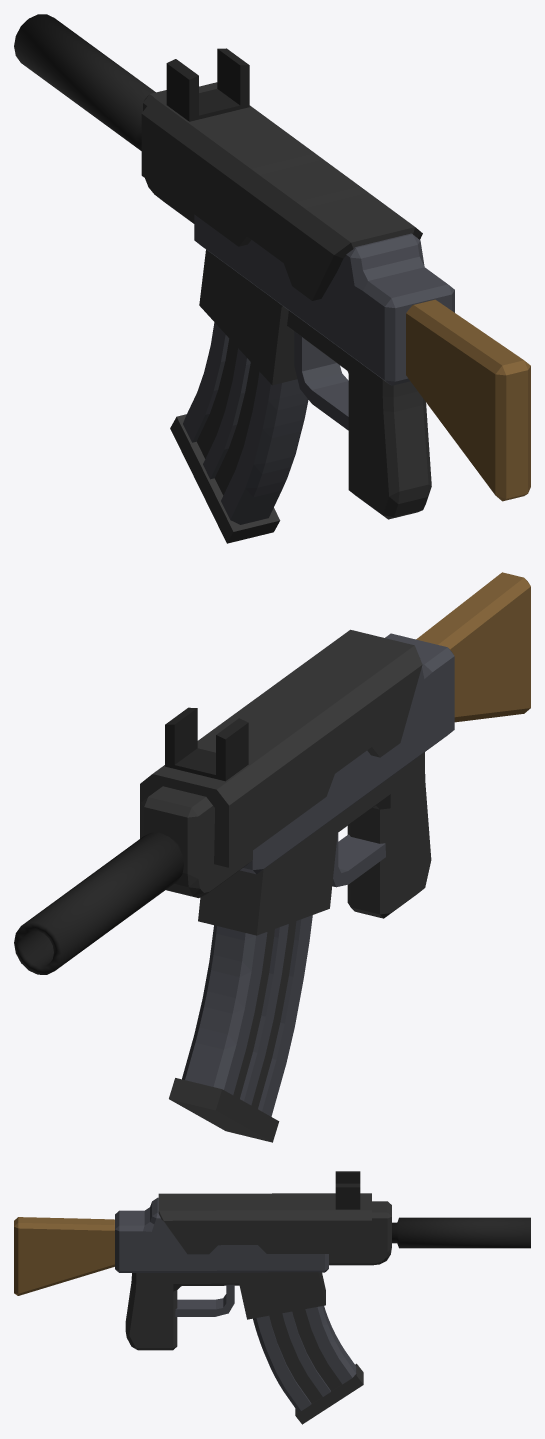
3 renders of one model, top to bottom at view 1: azimuth 30°, elevation 25°; view 2: azimuth 150°, elevation 25°; view 3: azimuth 270°, elevation 25°, orthographic. The views are drawn at different scales.
Parts seen in each view (by area): view 1: AK; view 2: AK; view 3: AK.
Boxes of the visible parts, x1=… form: AK: x1=14, y1=14, x2=530, y2=543; AK: x1=14, y1=572, x2=530, y2=1142; AK: x1=14, y1=1171, x2=530, y2=1424.
Bounding box in the file's own units: 0.0964 × 0.4617 × 0.9.
